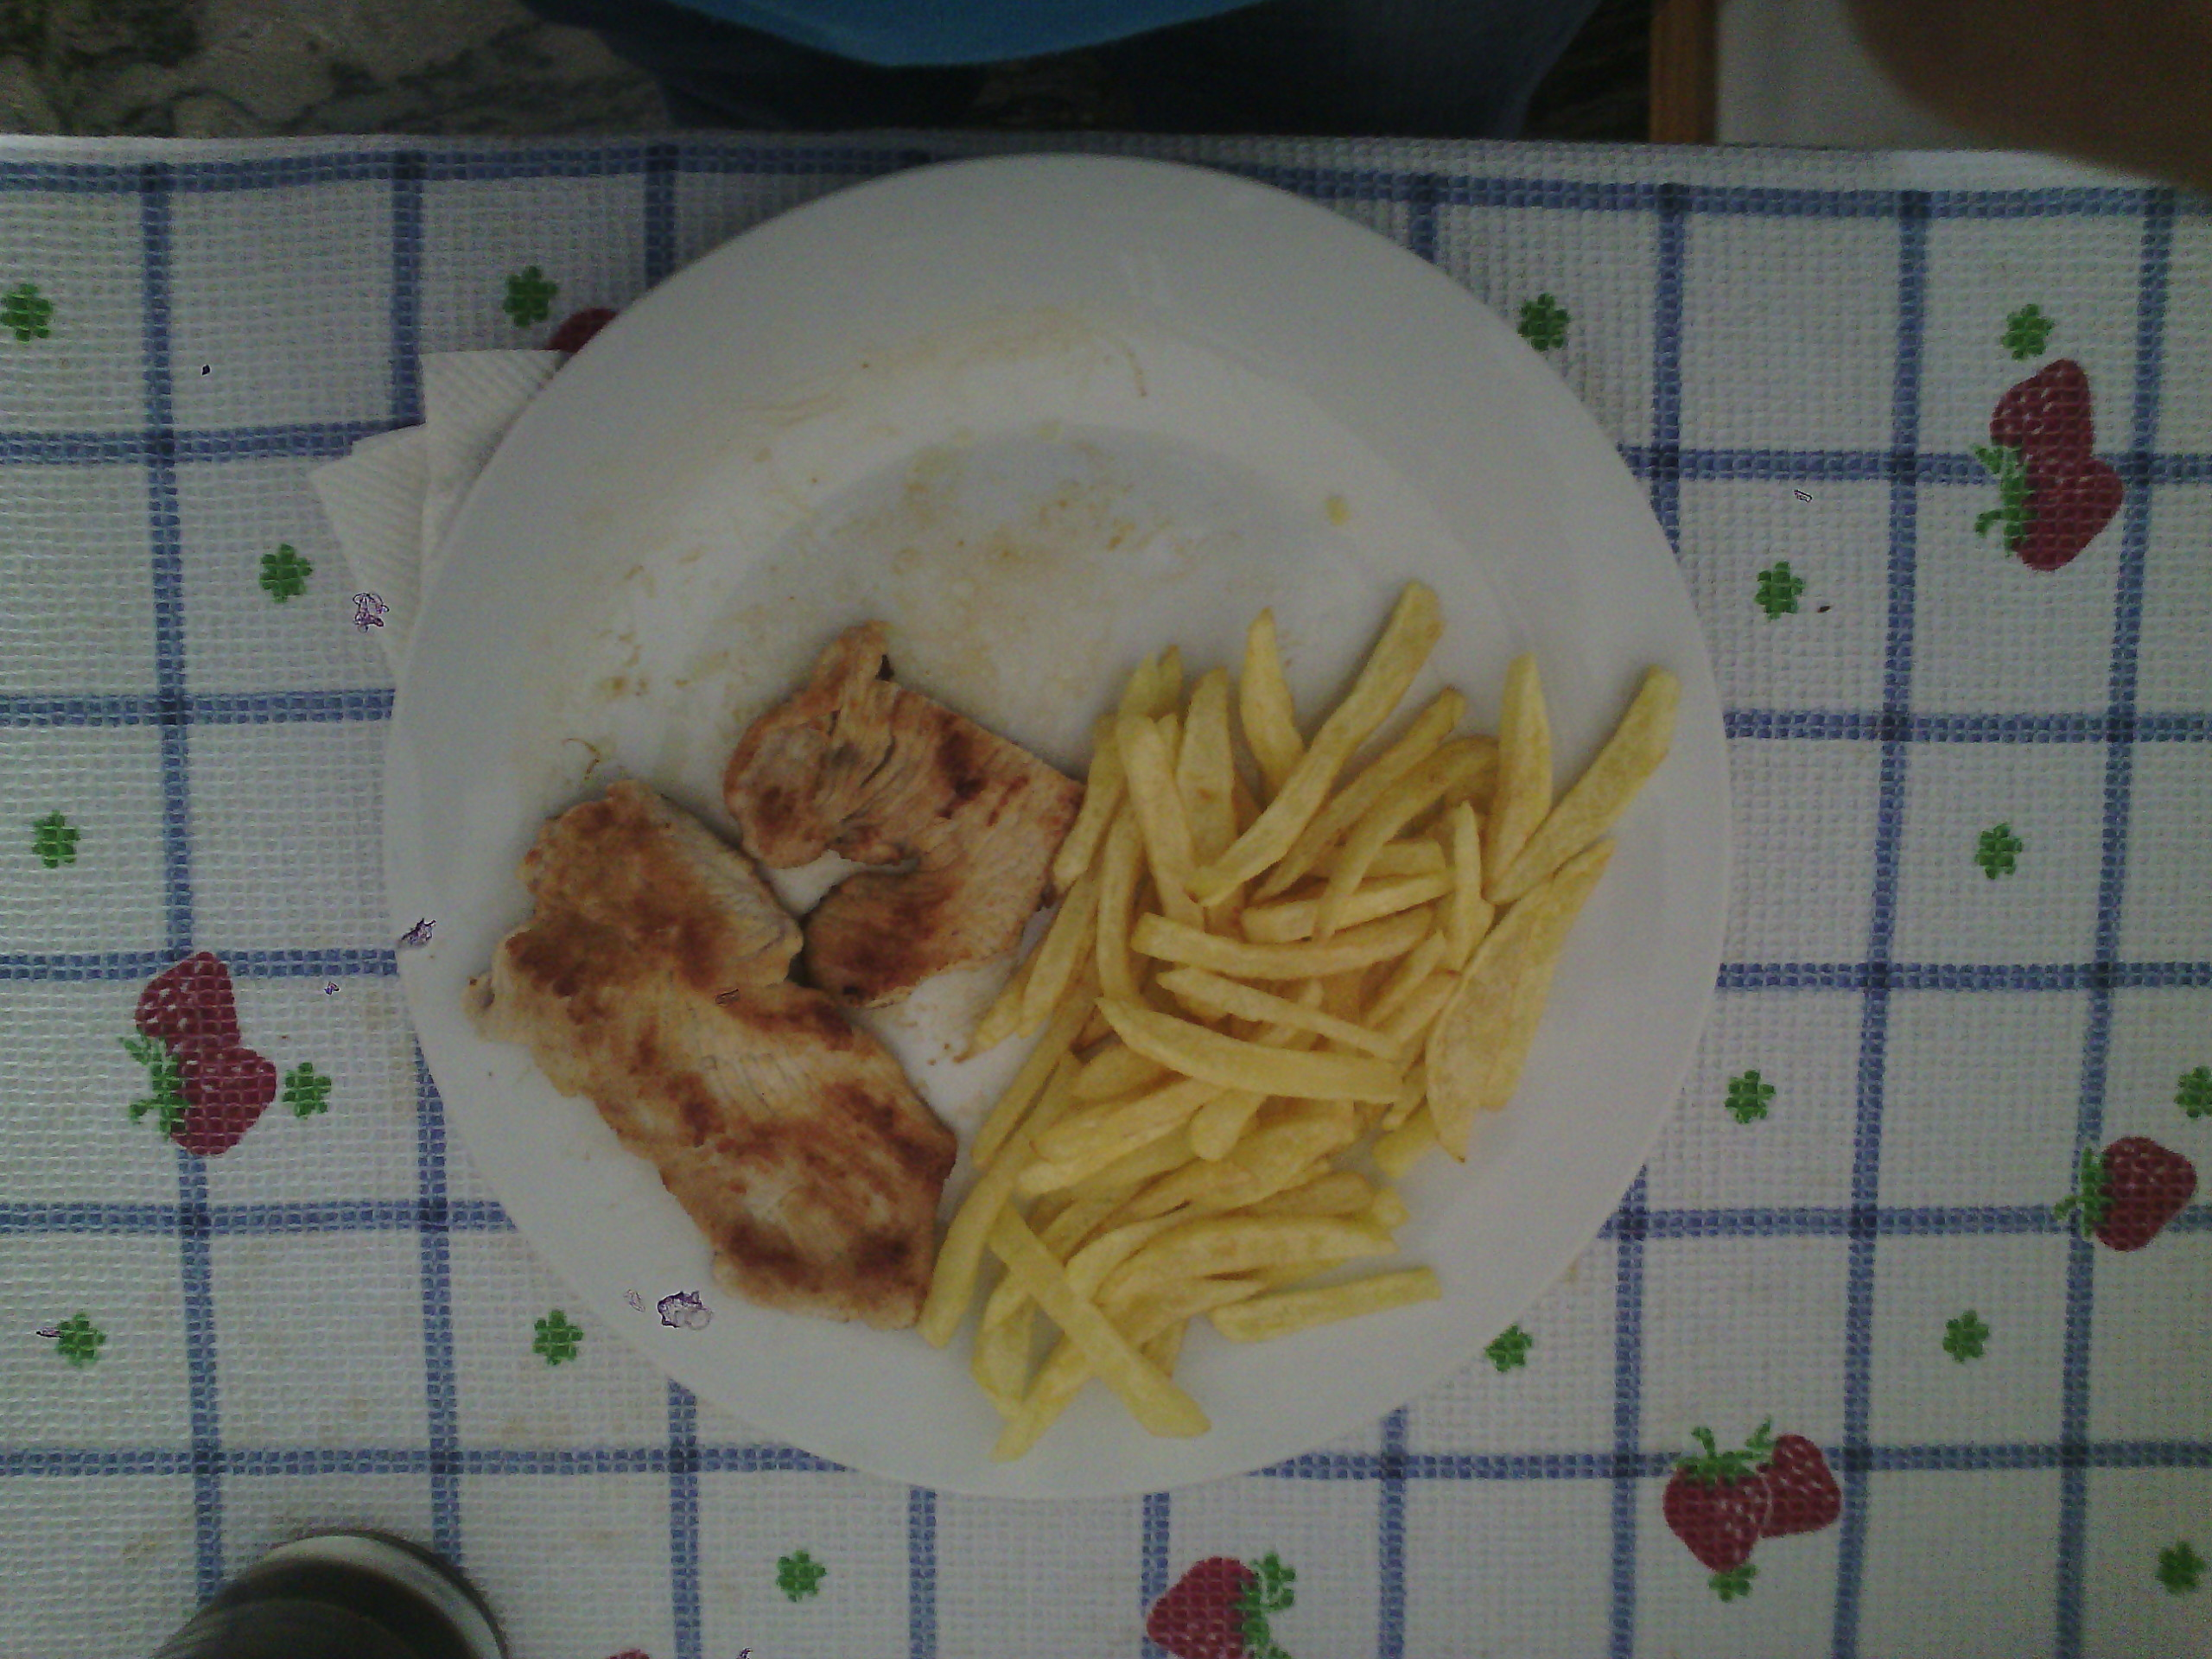61-80: (381, 159, 1733, 1507)
